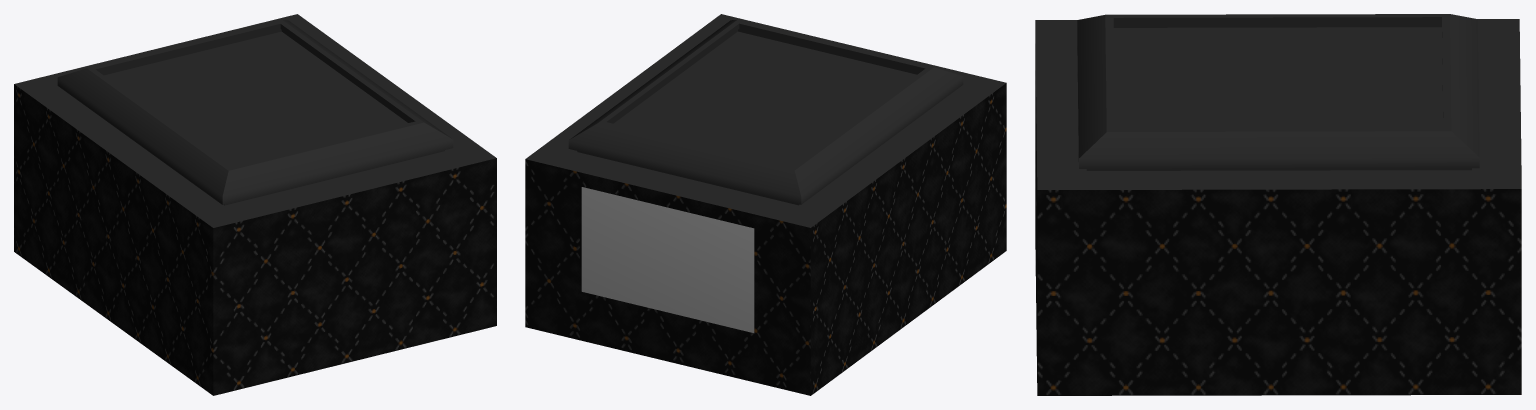
The picture shows the model from 3 angles, left to right: view 1: azimuth 30°, elevation 25°; view 2: azimuth 150°, elevation 25°; view 3: azimuth 270°, elevation 25°; orthographic projection. The views are drawn at different scales.
Visible parts, largest first — view 1: room; view 2: room, tv; view 3: room.
Part boxes in pixels (bbox=[...]): room: bbox=[14, 14, 496, 395]; room: bbox=[525, 14, 1006, 395]; tv: bbox=[581, 187, 754, 332]; room: bbox=[1035, 14, 1521, 395].
Bounding box in the file's own units: 10.85 × 7.01 × 13.03.
